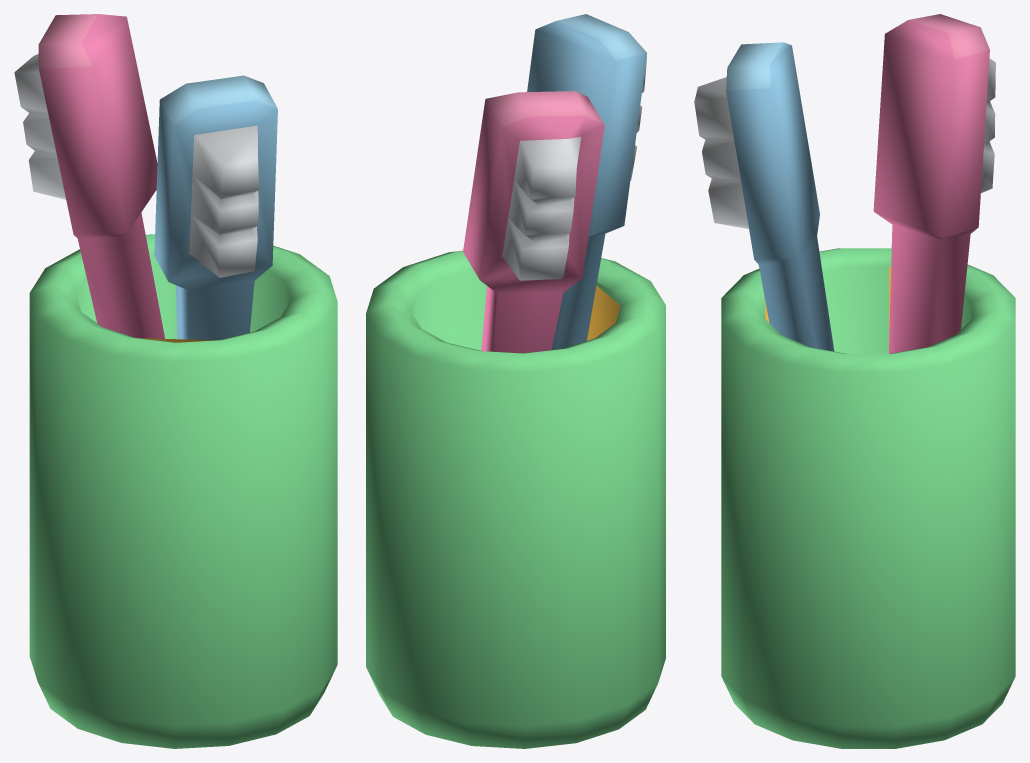
Rendered from higiene_bucal.glb.
3 views of the same model, side by side, from view 1: azimuth 30°, elevation 25°; view 2: azimuth 150°, elevation 25°; view 3: azimuth 270°, elevation 25° (orthographic). The views are drawn at different scales.
Parts seen in each view (by area): view 1: toothbrush_cup_decorated; view 2: toothbrush_cup_decorated; view 3: toothbrush_cup_decorated.
Boxes of the visible parts, x1,y1,x2,y2 form: toothbrush_cup_decorated: (14, 14, 337, 748); toothbrush_cup_decorated: (366, 14, 665, 748); toothbrush_cup_decorated: (694, 14, 1015, 748).
Size of the model in its own units: 0.288 by 0.7016 by 0.3145.
2 materials, 1 textured.
